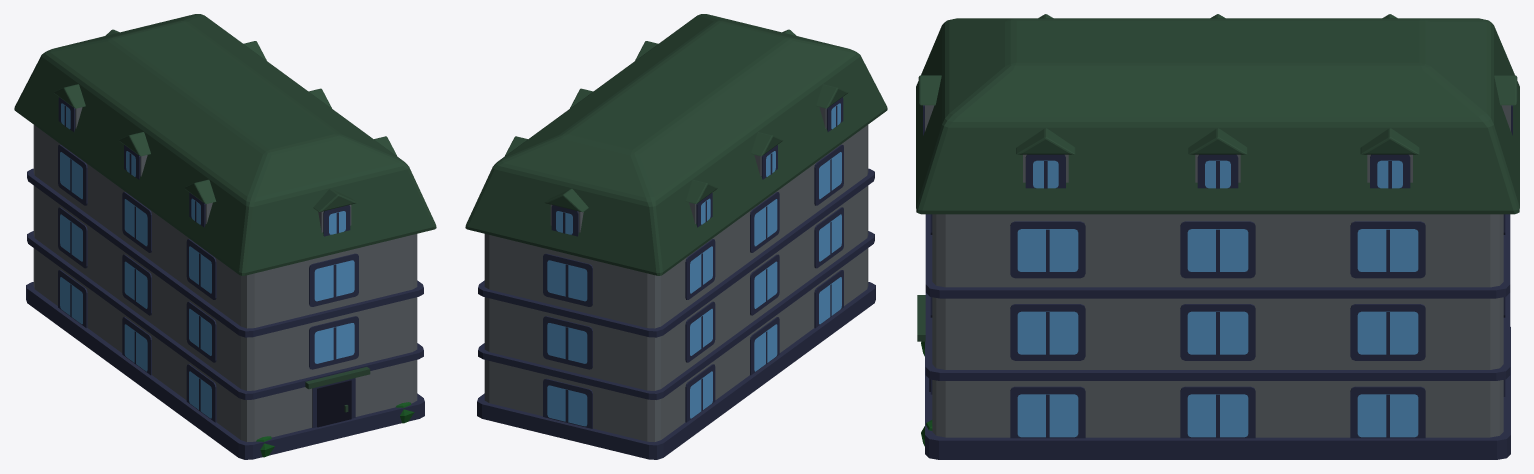
The model's file is house-1x2-3f-mansard-d.glb.
3 views of the same model, side by side, from view 1: azimuth 30°, elevation 25°; view 2: azimuth 150°, elevation 25°; view 3: azimuth 270°, elevation 25° (orthographic). The views are drawn at different scales.
Parts seen in each view (by area): view 1: house-1x2-3f-mansard-d; view 2: house-1x2-3f-mansard-d; view 3: house-1x2-3f-mansard-d.
Part boxes in pixels (x1,y1,x2,y2): house-1x2-3f-mansard-d: (14, 14, 436, 459); house-1x2-3f-mansard-d: (465, 14, 887, 459); house-1x2-3f-mansard-d: (916, 14, 1519, 459).
Size of the model in its own units: 0.9876 by 1.3 by 1.99.
Materials: 1 (1 with a texture image).
